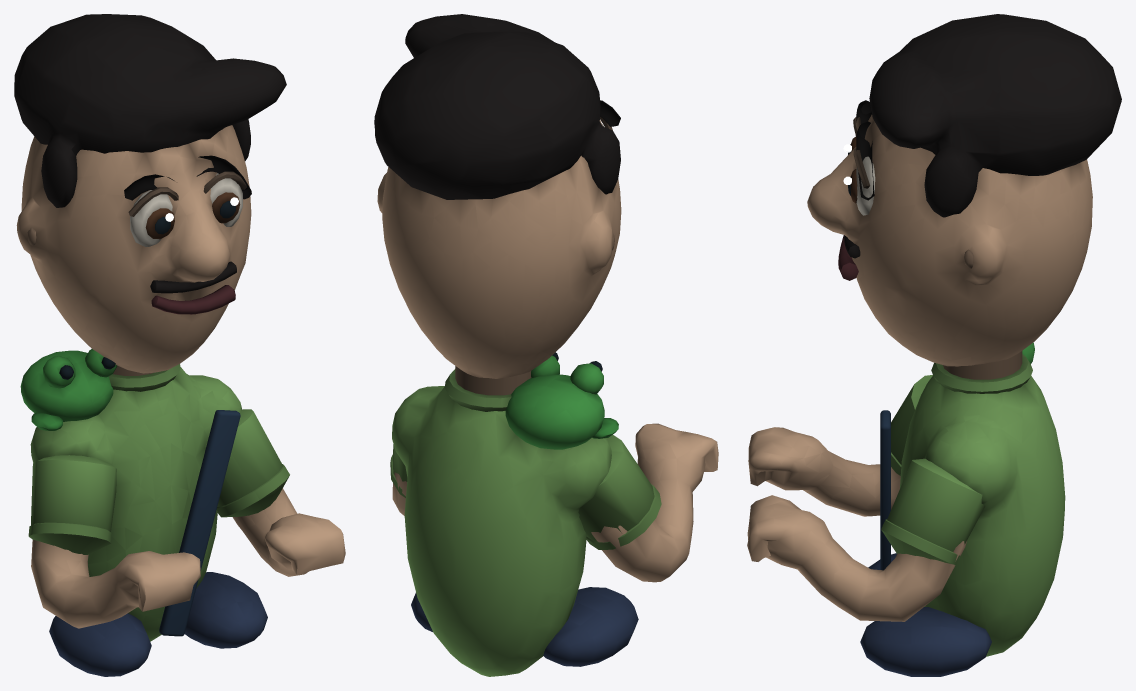
Rendered from sap-heinz.glb.
3 views of the same model, side by side, from view 1: azimuth 30°, elevation 25°; view 2: azimuth 150°, elevation 25°; view 3: azimuth 270°, elevation 25° (orthographic). The views are drawn at different scales.
Visible parts, largest first — view 1: sap-heinz-head-root-soft-e0b896, sap-heinz-head-root-soft-1d1a1a, sap-heinz-root-soft-84b967, sap-heinz-arm-right-soft-e0b896, sap-heinz-root-344465-r85, sap-heinz-arm-right-84b967-r85, sap-heinz-arm-left-soft-e0b896, sap-heinz-root-4caf50-r70, sap-heinz-root-263b54-r70, sap-heinz-arm-left-84b967-r85, sap-heinz-arm-right-6a9452-r85, sap-heinz-eyes-fff8e8-r25 (+7 smaller); view 2: sap-heinz-root-soft-84b967, sap-heinz-head-root-soft-e0b896, sap-heinz-head-root-soft-1d1a1a, sap-heinz-arm-right-soft-e0b896, sap-heinz-root-4caf50-r70, sap-heinz-root-344465-r85, sap-heinz-arm-right-84b967-r85, sap-heinz-root-e0b896-r70, sap-heinz-root-6f9b57-r85, sap-heinz-arm-right-6a9452-r85; view 3: sap-heinz-head-root-soft-e0b896, sap-heinz-head-root-soft-1d1a1a, sap-heinz-root-soft-84b967, sap-heinz-arm-left-soft-e0b896, sap-heinz-arm-right-soft-e0b896, sap-heinz-root-344465-r85, sap-heinz-arm-left-84b967-r85, sap-heinz-root-6f9b57-r85, sap-heinz-root-263b54-r70, sap-heinz-arm-left-6a9452-r85, sap-heinz-arm-right-84b967-r85, sap-heinz-root-e0b896-r70 (+2 smaller).
Boxes of the visible parts, bbox=[...] form: sap-heinz-head-root-soft-e0b896: bbox=[16, 125, 251, 373]; sap-heinz-head-root-soft-1d1a1a: bbox=[14, 14, 286, 207]; sap-heinz-root-soft-84b967: bbox=[30, 367, 241, 641]; sap-heinz-arm-right-soft-e0b896: bbox=[31, 540, 200, 628]; sap-heinz-root-344465-r85: bbox=[49, 572, 267, 676]; sap-heinz-arm-right-84b967-r85: bbox=[31, 455, 116, 531]; sap-heinz-arm-left-soft-e0b896: bbox=[232, 488, 345, 576]; sap-heinz-root-4caf50-r70: bbox=[20, 349, 117, 421]; sap-heinz-root-263b54-r70: bbox=[159, 410, 240, 636]; sap-heinz-arm-left-84b967-r85: bbox=[204, 409, 282, 506]; sap-heinz-arm-right-6a9452-r85: bbox=[28, 522, 111, 554]; sap-heinz-eyes-fff8e8-r25: bbox=[130, 173, 242, 246]; sap-heinz-root-soft-84b967: bbox=[392, 386, 611, 676]; sap-heinz-head-root-soft-e0b896: bbox=[377, 120, 621, 378]; sap-heinz-head-root-soft-1d1a1a: bbox=[374, 14, 620, 199]; sap-heinz-arm-right-soft-e0b896: bbox=[591, 423, 718, 582]; sap-heinz-root-4caf50-r70: bbox=[505, 355, 604, 449]; sap-heinz-root-344465-r85: bbox=[411, 587, 638, 666]; sap-heinz-arm-right-84b967-r85: bbox=[578, 435, 654, 541]; sap-heinz-root-e0b896-r70: bbox=[455, 366, 531, 395]; sap-heinz-root-6f9b57-r85: bbox=[444, 369, 511, 411]; sap-heinz-arm-right-6a9452-r85: bbox=[586, 484, 661, 549]; sap-heinz-head-root-soft-e0b896: bbox=[807, 114, 1092, 366]; sap-heinz-head-root-soft-1d1a1a: bbox=[869, 14, 1121, 217]; sap-heinz-root-soft-84b967: bbox=[900, 375, 1065, 656]; sap-heinz-arm-left-soft-e0b896: bbox=[747, 495, 966, 621]; sap-heinz-arm-right-soft-e0b896: bbox=[748, 427, 900, 516]; sap-heinz-root-344465-r85: bbox=[860, 553, 991, 676]; sap-heinz-arm-left-84b967-r85: bbox=[887, 458, 985, 551]; sap-heinz-root-6f9b57-r85: bbox=[931, 354, 1032, 393]; sap-heinz-root-263b54-r70: bbox=[880, 410, 890, 570]; sap-heinz-arm-left-6a9452-r85: bbox=[881, 519, 959, 565]; sap-heinz-arm-right-84b967-r85: bbox=[891, 375, 932, 464]; sap-heinz-root-e0b896-r70: bbox=[943, 351, 1022, 379].
Bounding box in the file's own units: 0.9921 × 2.21 × 1.2.
